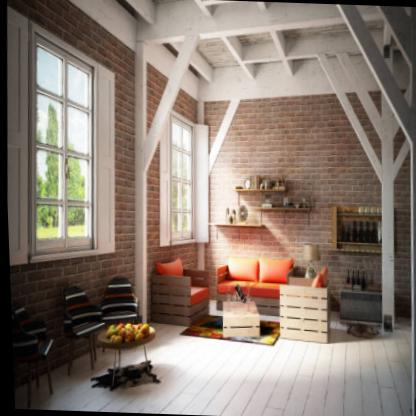Window: (27, 21, 97, 263), (169, 115, 191, 243)
